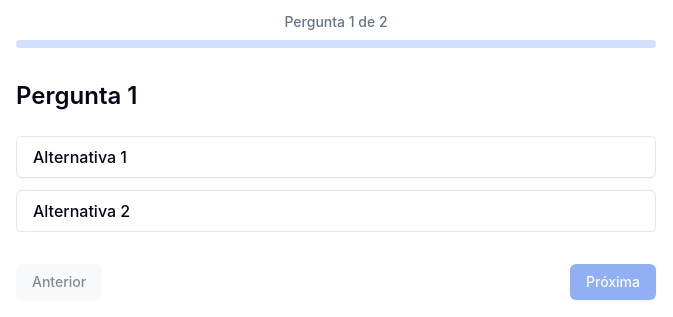
Test case: QuizFlow › should enable next button when answer is selected
Click the button "Alternativa 1". click: (80, 157)
box: [16,136,656,178]
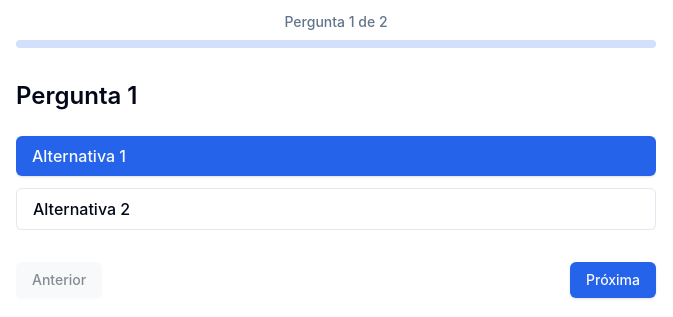
expect the button "Próxima" is enabled: met, box [570,262,656,298]
